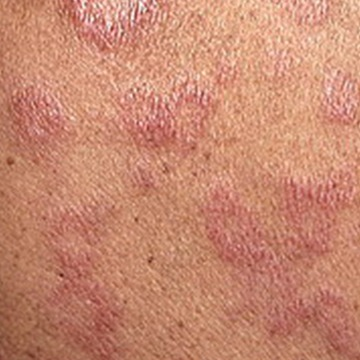Leprosy: (195, 169, 359, 358), (1, 176, 152, 359), (110, 78, 227, 159), (47, 0, 179, 51), (0, 79, 73, 153), (311, 56, 359, 125), (274, 0, 343, 31)
